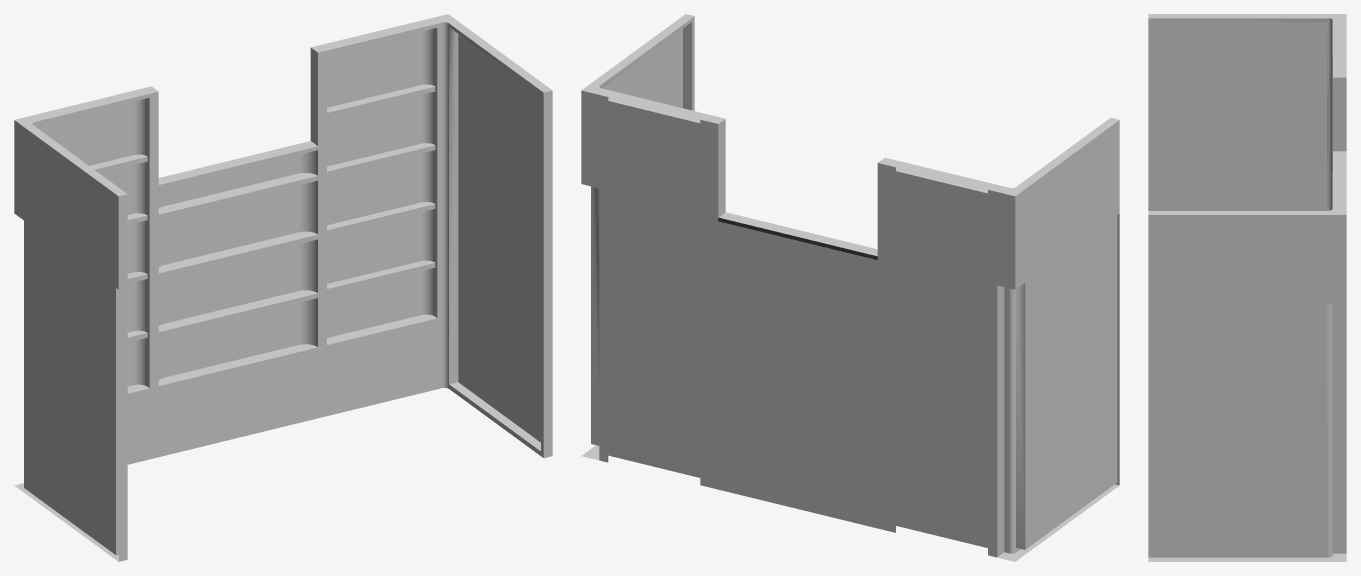
The model's file is wall_kit.glb.
The picture shows the model from 3 angles, left to right: view 1: azimuth 30°, elevation 25°; view 2: azimuth 150°, elevation 25°; view 3: azimuth 270°, elevation 25°; orthographic projection. The views are drawn at different scales.
Parts seen in each view (by area): view 1: 3DGeom-1; view 2: 3DGeom-1, 3DGeom-2; view 3: 3DGeom-1.
Part boxes in pixels (left/top/right/bottom): 3DGeom-1: left=14, top=14, right=552, bottom=561; 3DGeom-1: left=581, top=14, right=1119, bottom=561; 3DGeom-2: left=718, top=217, right=877, bottom=259; 3DGeom-1: left=1148, top=14, right=1346, bottom=561.
Bounding box in the file's own units: 2.4 × 1.93 × 1.
Materials: 2 (1 with a texture image).
